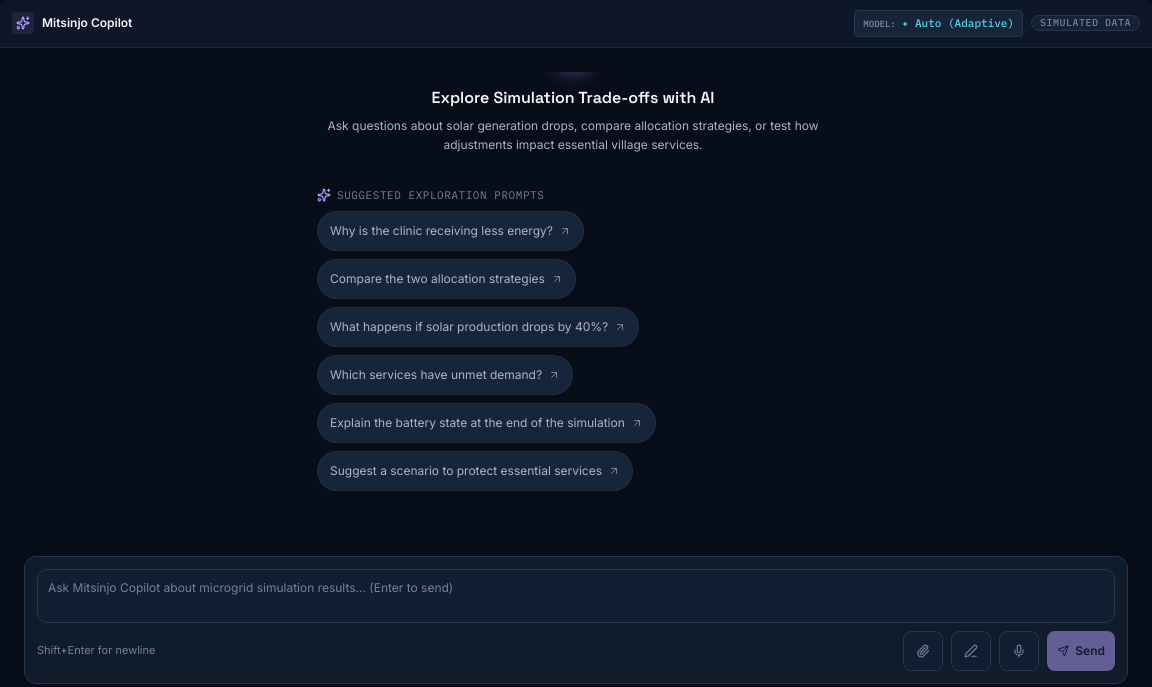
Test: Copilot chat flow (decisions, fallback note) › rejecting changes nothing and says so in the chat
(page scrolled)
Replace the text in the text box with "Cut the market tonight" at (576, 596), box [37, 568, 1115, 622]
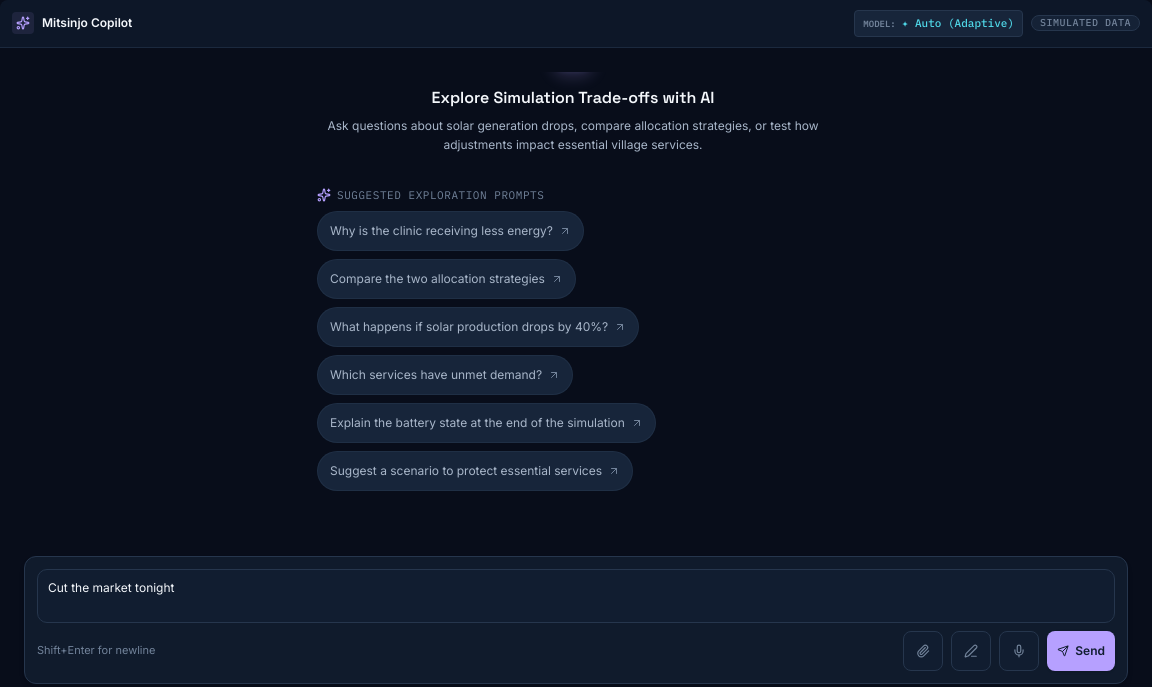
Press Enter in the text box, box [37, 568, 1115, 622]
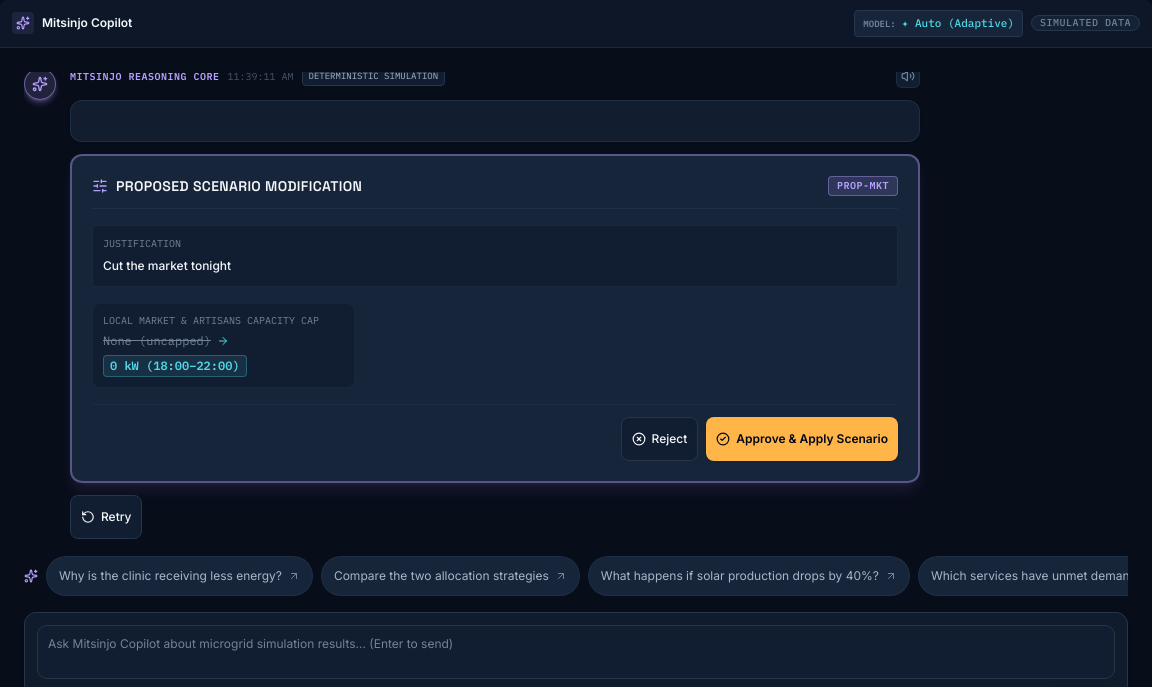
Click the button "Reject".
click(660, 439)  # box [621, 417, 698, 461]
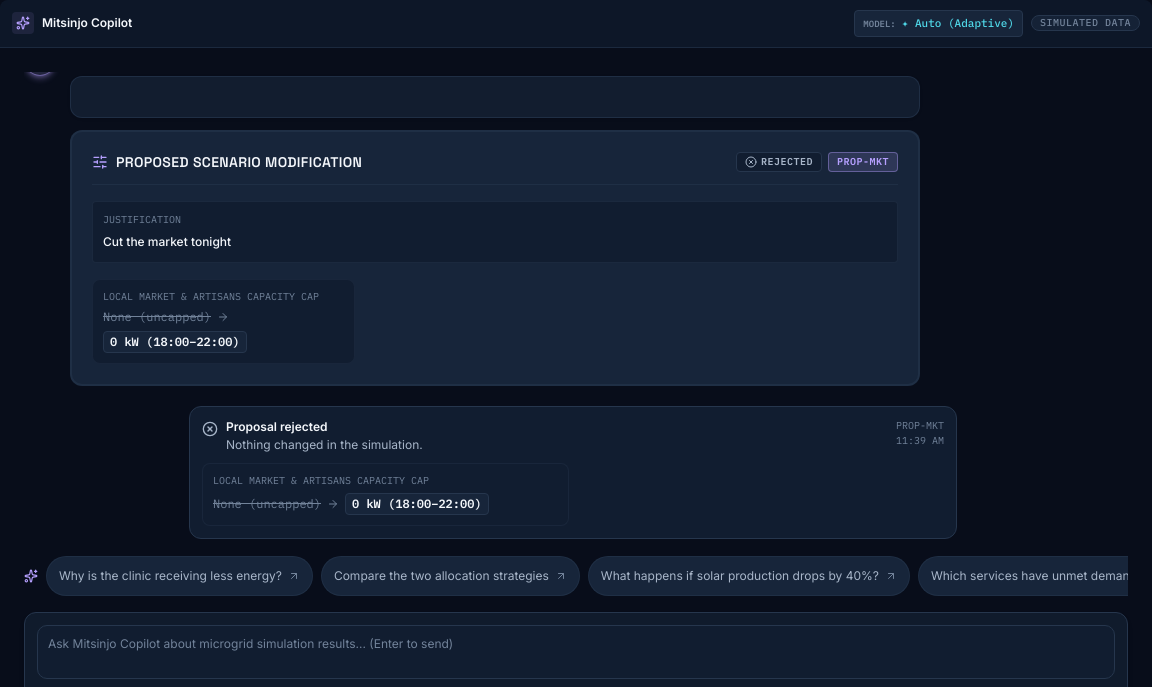
Expected: the text "Proposal rejected" is shown, [226, 419, 328, 434]
Expected: the text "Nothing changed in the simulation." is shown, [226, 437, 423, 452]
Expected: the button "Approve & Apply Scenario" is gone
